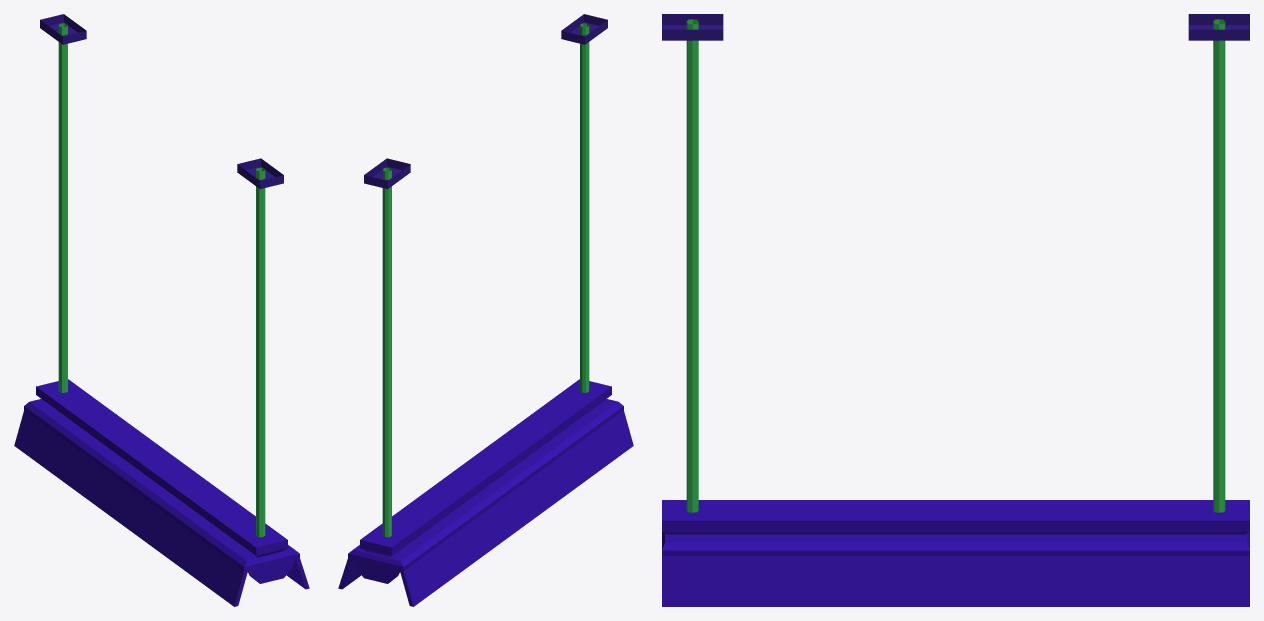
Rendered from props_light.obj.
3 renders of one model, left to right at view 1: azimuth 30°, elevation 25°; view 2: azimuth 150°, elevation 25°; view 3: azimuth 270°, elevation 25°, orthographic. The views are drawn at different scales.
Parts seen in each view (by area): view 1: room_mesh; view 2: room_mesh; view 3: room_mesh.
Part boxes in pixels (x1,y1,x2,y2): room_mesh: (14, 14, 309, 606); room_mesh: (338, 14, 633, 606); room_mesh: (662, 14, 1249, 606).
Size of the model in its own units: 0.2375 by 1.26 by 1.2.
